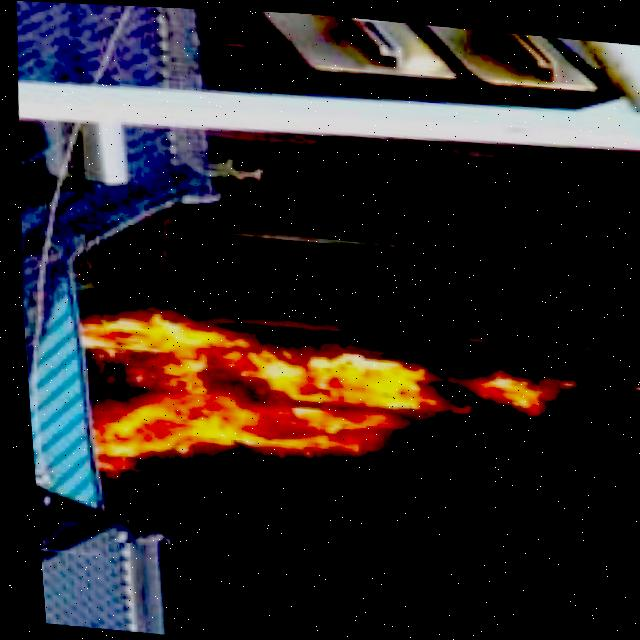Smoke: (60, 306, 554, 503)
